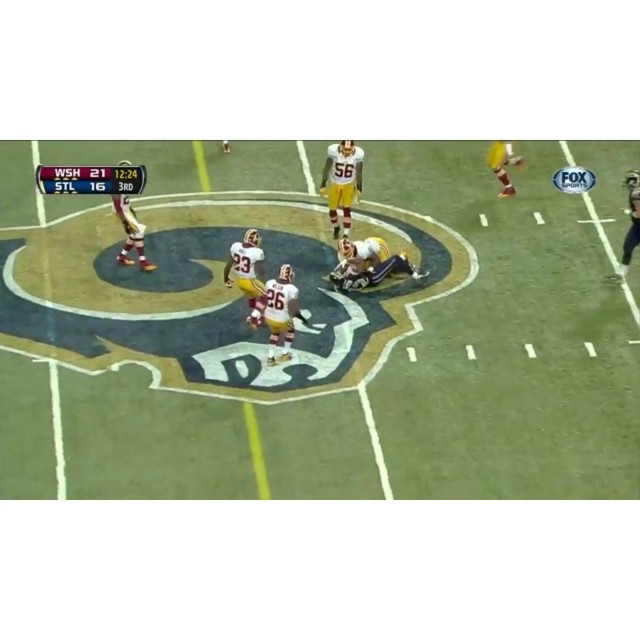american-football-player: (110, 161, 156, 269), (259, 266, 308, 366), (335, 237, 425, 291), (318, 140, 365, 241), (224, 229, 269, 329), (606, 168, 640, 284), (486, 142, 525, 198)
